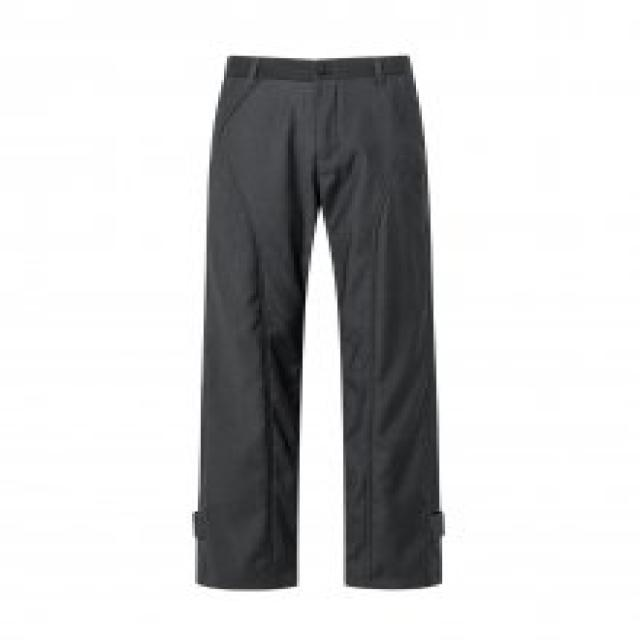long-pants: (196, 56, 449, 594)
